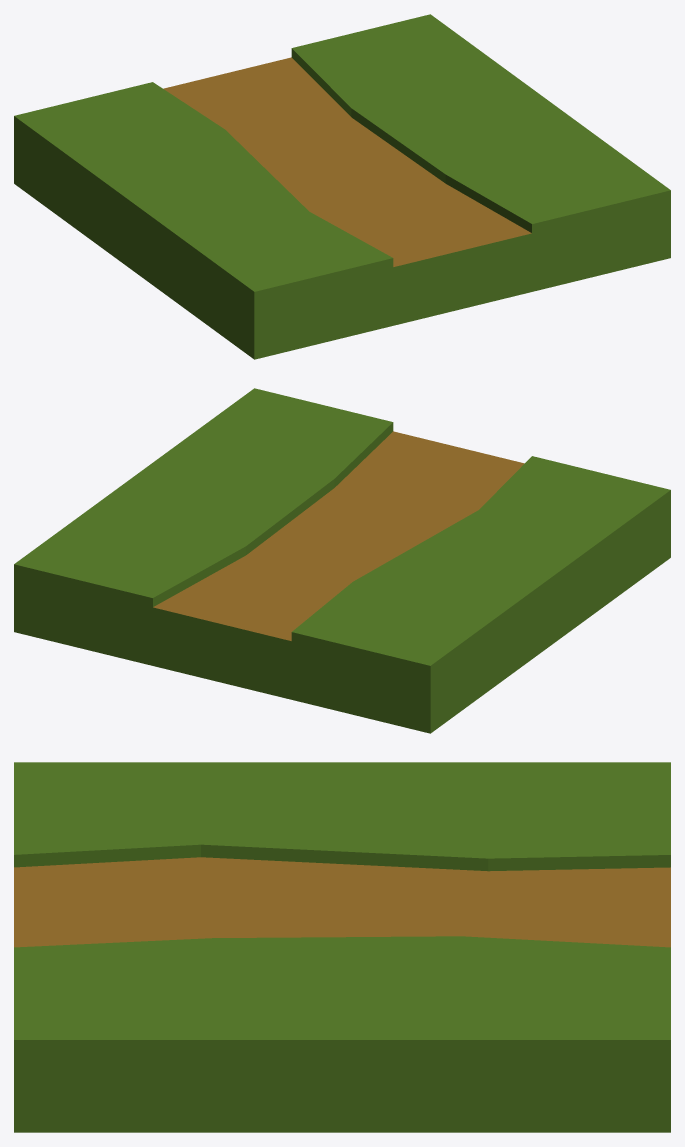
File: Straight.fbx
The picture shows the model from 3 angles, top to bottom: view 1: azimuth 30°, elevation 25°; view 2: azimuth 150°, elevation 25°; view 3: azimuth 270°, elevation 25°; orthographic projection. The views are drawn at different scales.
Visible parts, largest first — view 1: Straight; view 2: Straight; view 3: Straight.
Boxes of the visible parts, x1,y1,x2,y2 form: Straight: (14, 14, 670, 359); Straight: (14, 388, 670, 733); Straight: (14, 762, 670, 1132).
Size of the model in its own units: 450 by 70 by 450.
